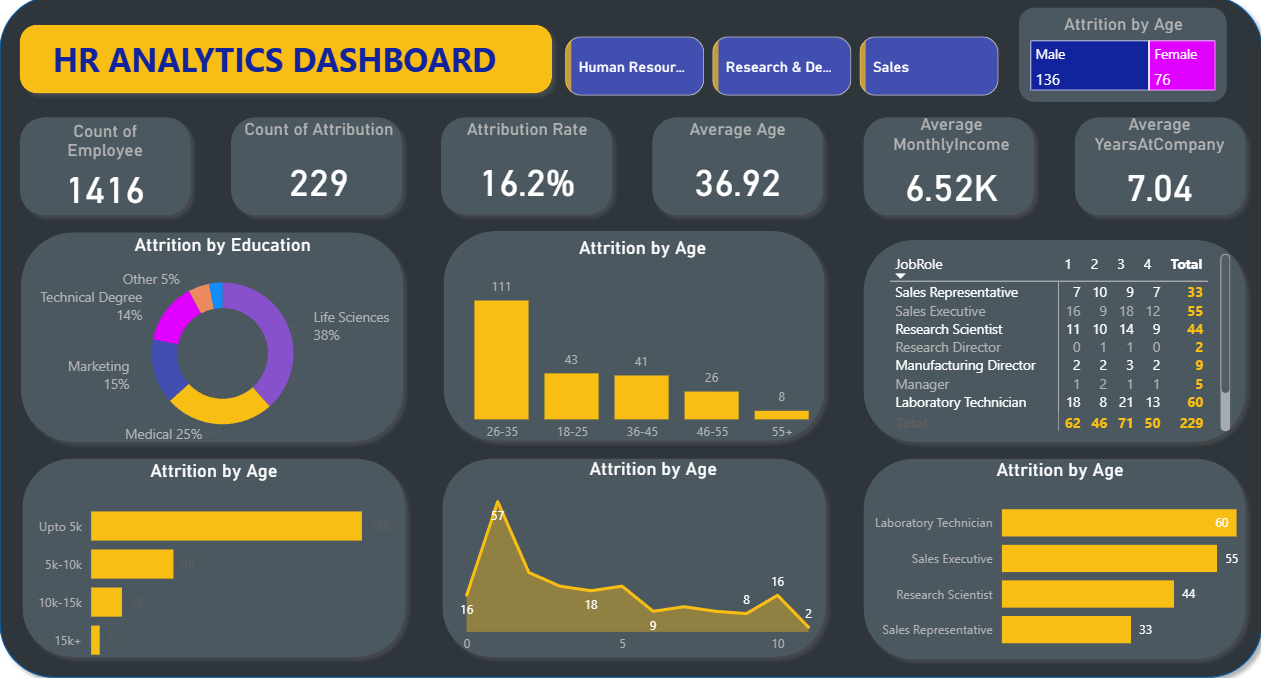

The dashboard page shown, as its layout file describes it:
{"tool":"powerbi","page":{"name":"Main dashboard","canvas":[1280,720],"ordinal":0},"visuals":[{"type":"shape","box":[286.5,195.8,181.5,96.1],"z":0},{"type":"shape","box":[26,27.4,1253.8,685.3],"z":1000},{"type":"shape","box":[46.3,146.7,183.3,112.1],"z":2000},{"type":"shape","box":[1078.6,146.7,183.3,112.1],"z":3000},{"type":"shape","box":[665.7,146.7,183.3,112.1],"z":4000},{"type":"shape","box":[872.1,146.7,183.3,112.1],"z":5000},{"type":"shape","box":[252.7,146.7,183.3,112.1],"z":6000},{"type":"shape","box":[459.1,146.7,183.4,111.3],"z":7000},{"type":"card","title":"Count of Employee","fields":{"Values":["Sum(HR_Analytics.EmployeeCount)"]},"box":[57.5,157.7,161.4,89.3],"z":8000},{"type":"card","title":"Count of Attribution","fields":{"Values":["Sum(HR_Analytics.Attrition_Count)"]},"box":[255.6,156.5,183.4,97.8],"z":9000},{"type":"card","title":"Attribution Rate","fields":{"Values":["HR_Analytics.Attrition Rate"]},"box":[463.5,156.5,174.9,97.8],"z":10000},{"type":"card","title":"Average Age","fields":{"Values":["Avg(HR_Analytics.Age)"]},"box":[668.9,156.5,176.1,97.8],"z":11000},{"type":"card","title":"Average MonthlyIncome","fields":{"Values":["Avg(HR_Analytics.MonthlyIncome)"]},"box":[875.5,151.6,181,97.8],"z":12000},{"type":"card","title":"Average YearsAtCompany","fields":{"Values":["Avg(HR_Analytics.YearsAtCompany)"]},"box":[1084.7,151.6,170,97.8],"z":13000},{"type":"shape","box":[47.7,259.2,390.1,221.3],"z":14000},{"type":"donutChart","title":"Attrition by Education","fields":{"Category":["HR_Analytics.EducationField"],"Y":["Sum(HR_Analytics.Attrition_Count)"]},"box":[56.3,269,393.8,211.6],"z":15000},{"type":"shape","box":[871.9,266.6,390.1,214],"z":16000},{"type":"shape","box":[461,258,388.9,221.3],"z":17000},{"type":"columnChart","title":"Attrition by Age","fields":{"Category":["HR_Analytics.AgeGroup"],"Y":["Sum(HR_Analytics.Attrition_Count)"]},"box":[467.1,271.5,393.8,209.1],"z":18000},{"type":"pivotTable","fields":{"Rows":["HR_Analytics.JobRole"],"Columns":["HR_Analytics.JobSatisfaction"],"Values":["Sum(HR_Analytics.Attrition_Count)"]},"box":[901.2,283.7,342.4,183.4],"z":19000},{"type":"shape","box":[871.9,480.6,390.1,212.8],"z":20000},{"type":"shape","box":[459.8,480.6,391.3,210.3],"z":21000},{"type":"shape","box":[48.9,480.6,391.3,210.3],"z":22000},{"type":"barChart","title":"Attrition by Age","fields":{"Category":["HR_Analytics.SalarySlab"],"Y":["Sum(HR_Analytics.Attrition_Count)"]},"box":[63.6,490.4,362,211.6],"z":23000},{"type":"areaChart","title":"Attrition by Age","fields":{"Category":["HR_Analytics.YearsAtCompany"],"Y":["Sum(HR_Analytics.Attrition_Count)"]},"box":[476.9,487.9,395,200.5],"z":24000},{"type":"barChart","title":"Attrition by Age","fields":{"Y":["Sum(HR_Analytics.Attrition_Count)"],"Category":["HR_Analytics.JobRole"]},"box":[875.8,489.1,393.9,200.5],"z":25000},{"type":"advancedSlicerVisual","fields":{"Values":["HR_Analytics.Department"]},"box":[583.3,70.9,434.1,68.5],"z":26000},{"type":"treemap","title":"Attrition by Age","fields":{"Values":["Sum(HR_Analytics.Attrition_Count)"],"Group":["HR_Analytics.Gender"]},"box":[1032.1,47.7,203,91.7],"z":27000},{"type":"shape","box":[46.5,56.3,536.8,83.2],"z":27001},{"type":"textbox","box":[81.9,70.9,530.7,86.8],"z":27002}]}

Visuals, with their boxes on the page's 1280x720 design canvas (x1, y1, x2, y2). These are canvas units, not pixel positions in the 1261x678 screenshot, which may show the page scaled, cropped or inside an application window:
shape: l=286, t=196, r=468, b=292
shape: l=26, t=27, r=1280, b=713
shape: l=46, t=147, r=230, b=259
shape: l=1079, t=147, r=1262, b=259
shape: l=666, t=147, r=849, b=259
shape: l=872, t=147, r=1055, b=259
shape: l=253, t=147, r=436, b=259
shape: l=459, t=147, r=642, b=258
"Count of Employee" card: l=58, t=158, r=219, b=247
"Count of Attribution" card: l=256, t=156, r=439, b=254
"Attribution Rate" card: l=464, t=156, r=638, b=254
"Average Age" card: l=669, t=156, r=845, b=254
"Average MonthlyIncome" card: l=876, t=152, r=1056, b=249
"Average YearsAtCompany" card: l=1085, t=152, r=1255, b=249
shape: l=48, t=259, r=438, b=480
"Attrition by Education" donutChart: l=56, t=269, r=450, b=481
shape: l=872, t=267, r=1262, b=481
shape: l=461, t=258, r=850, b=479
"Attrition by Age" columnChart: l=467, t=272, r=861, b=481
pivotTable - HR_Analytics.JobRole x HR_Analytics.JobSatisfaction: l=901, t=284, r=1244, b=467
shape: l=872, t=481, r=1262, b=693
shape: l=460, t=481, r=851, b=691
shape: l=49, t=481, r=440, b=691
"Attrition by Age" barChart: l=64, t=490, r=426, b=702
"Attrition by Age" areaChart: l=477, t=488, r=872, b=688
"Attrition by Age" barChart: l=876, t=489, r=1270, b=690
advancedSlicerVisual - HR_Analytics.Department: l=583, t=71, r=1017, b=139
"Attrition by Age" treemap: l=1032, t=48, r=1235, b=139
shape: l=46, t=56, r=583, b=140
textbox: l=82, t=71, r=613, b=158
